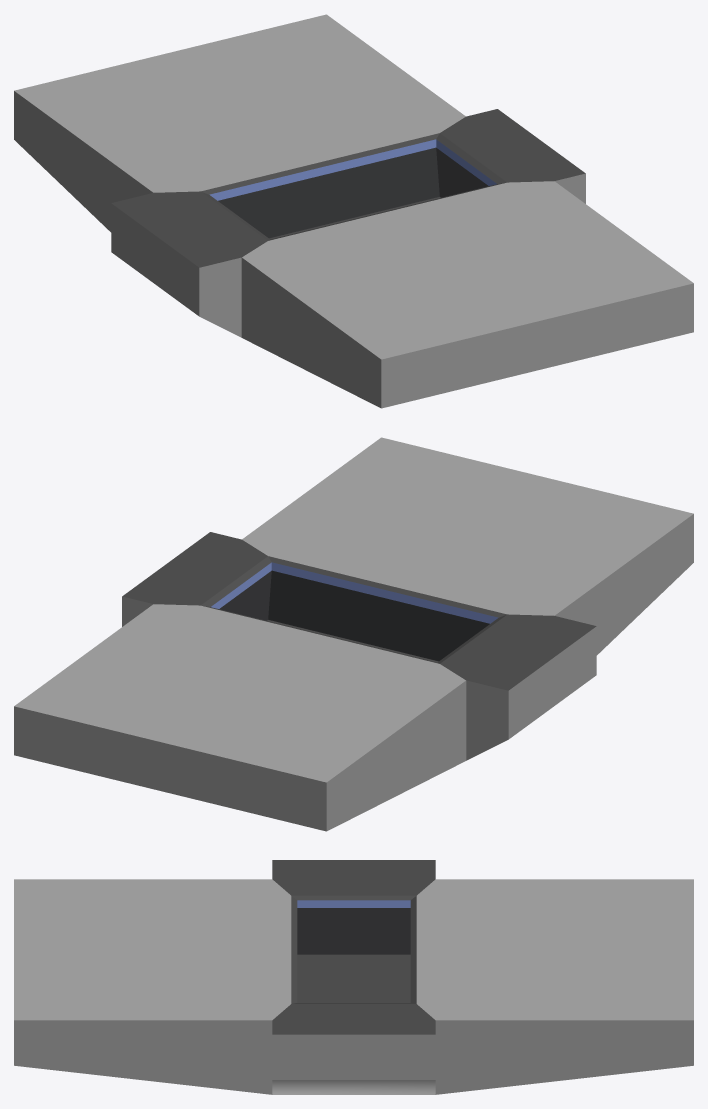
The model's file is ROOM Storage.fbx.
3 renders of one model, top to bottom at view 1: azimuth 30°, elevation 25°; view 2: azimuth 150°, elevation 25°; view 3: azimuth 270°, elevation 25°, orthographic. The views are drawn at different scales.
Parts seen in each view (by area): view 1: room4STORAGE; view 2: room4STORAGE; view 3: room4STORAGE.
Boxes of the visible parts, x1,y1,x2,y2 form: room4STORAGE: (14, 14, 693, 408); room4STORAGE: (14, 437, 693, 831); room4STORAGE: (14, 860, 693, 1094).
Size of the model in its own units: 505 by 101 by 832.
